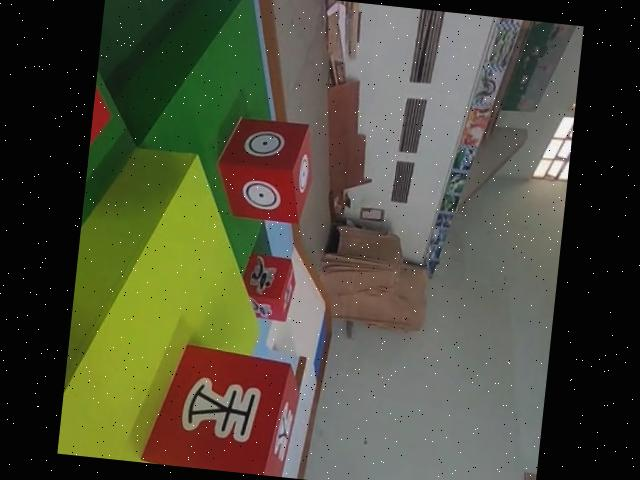R1: (236, 249, 301, 326)
R2 Real: (138, 335, 304, 478), (213, 113, 316, 225)
